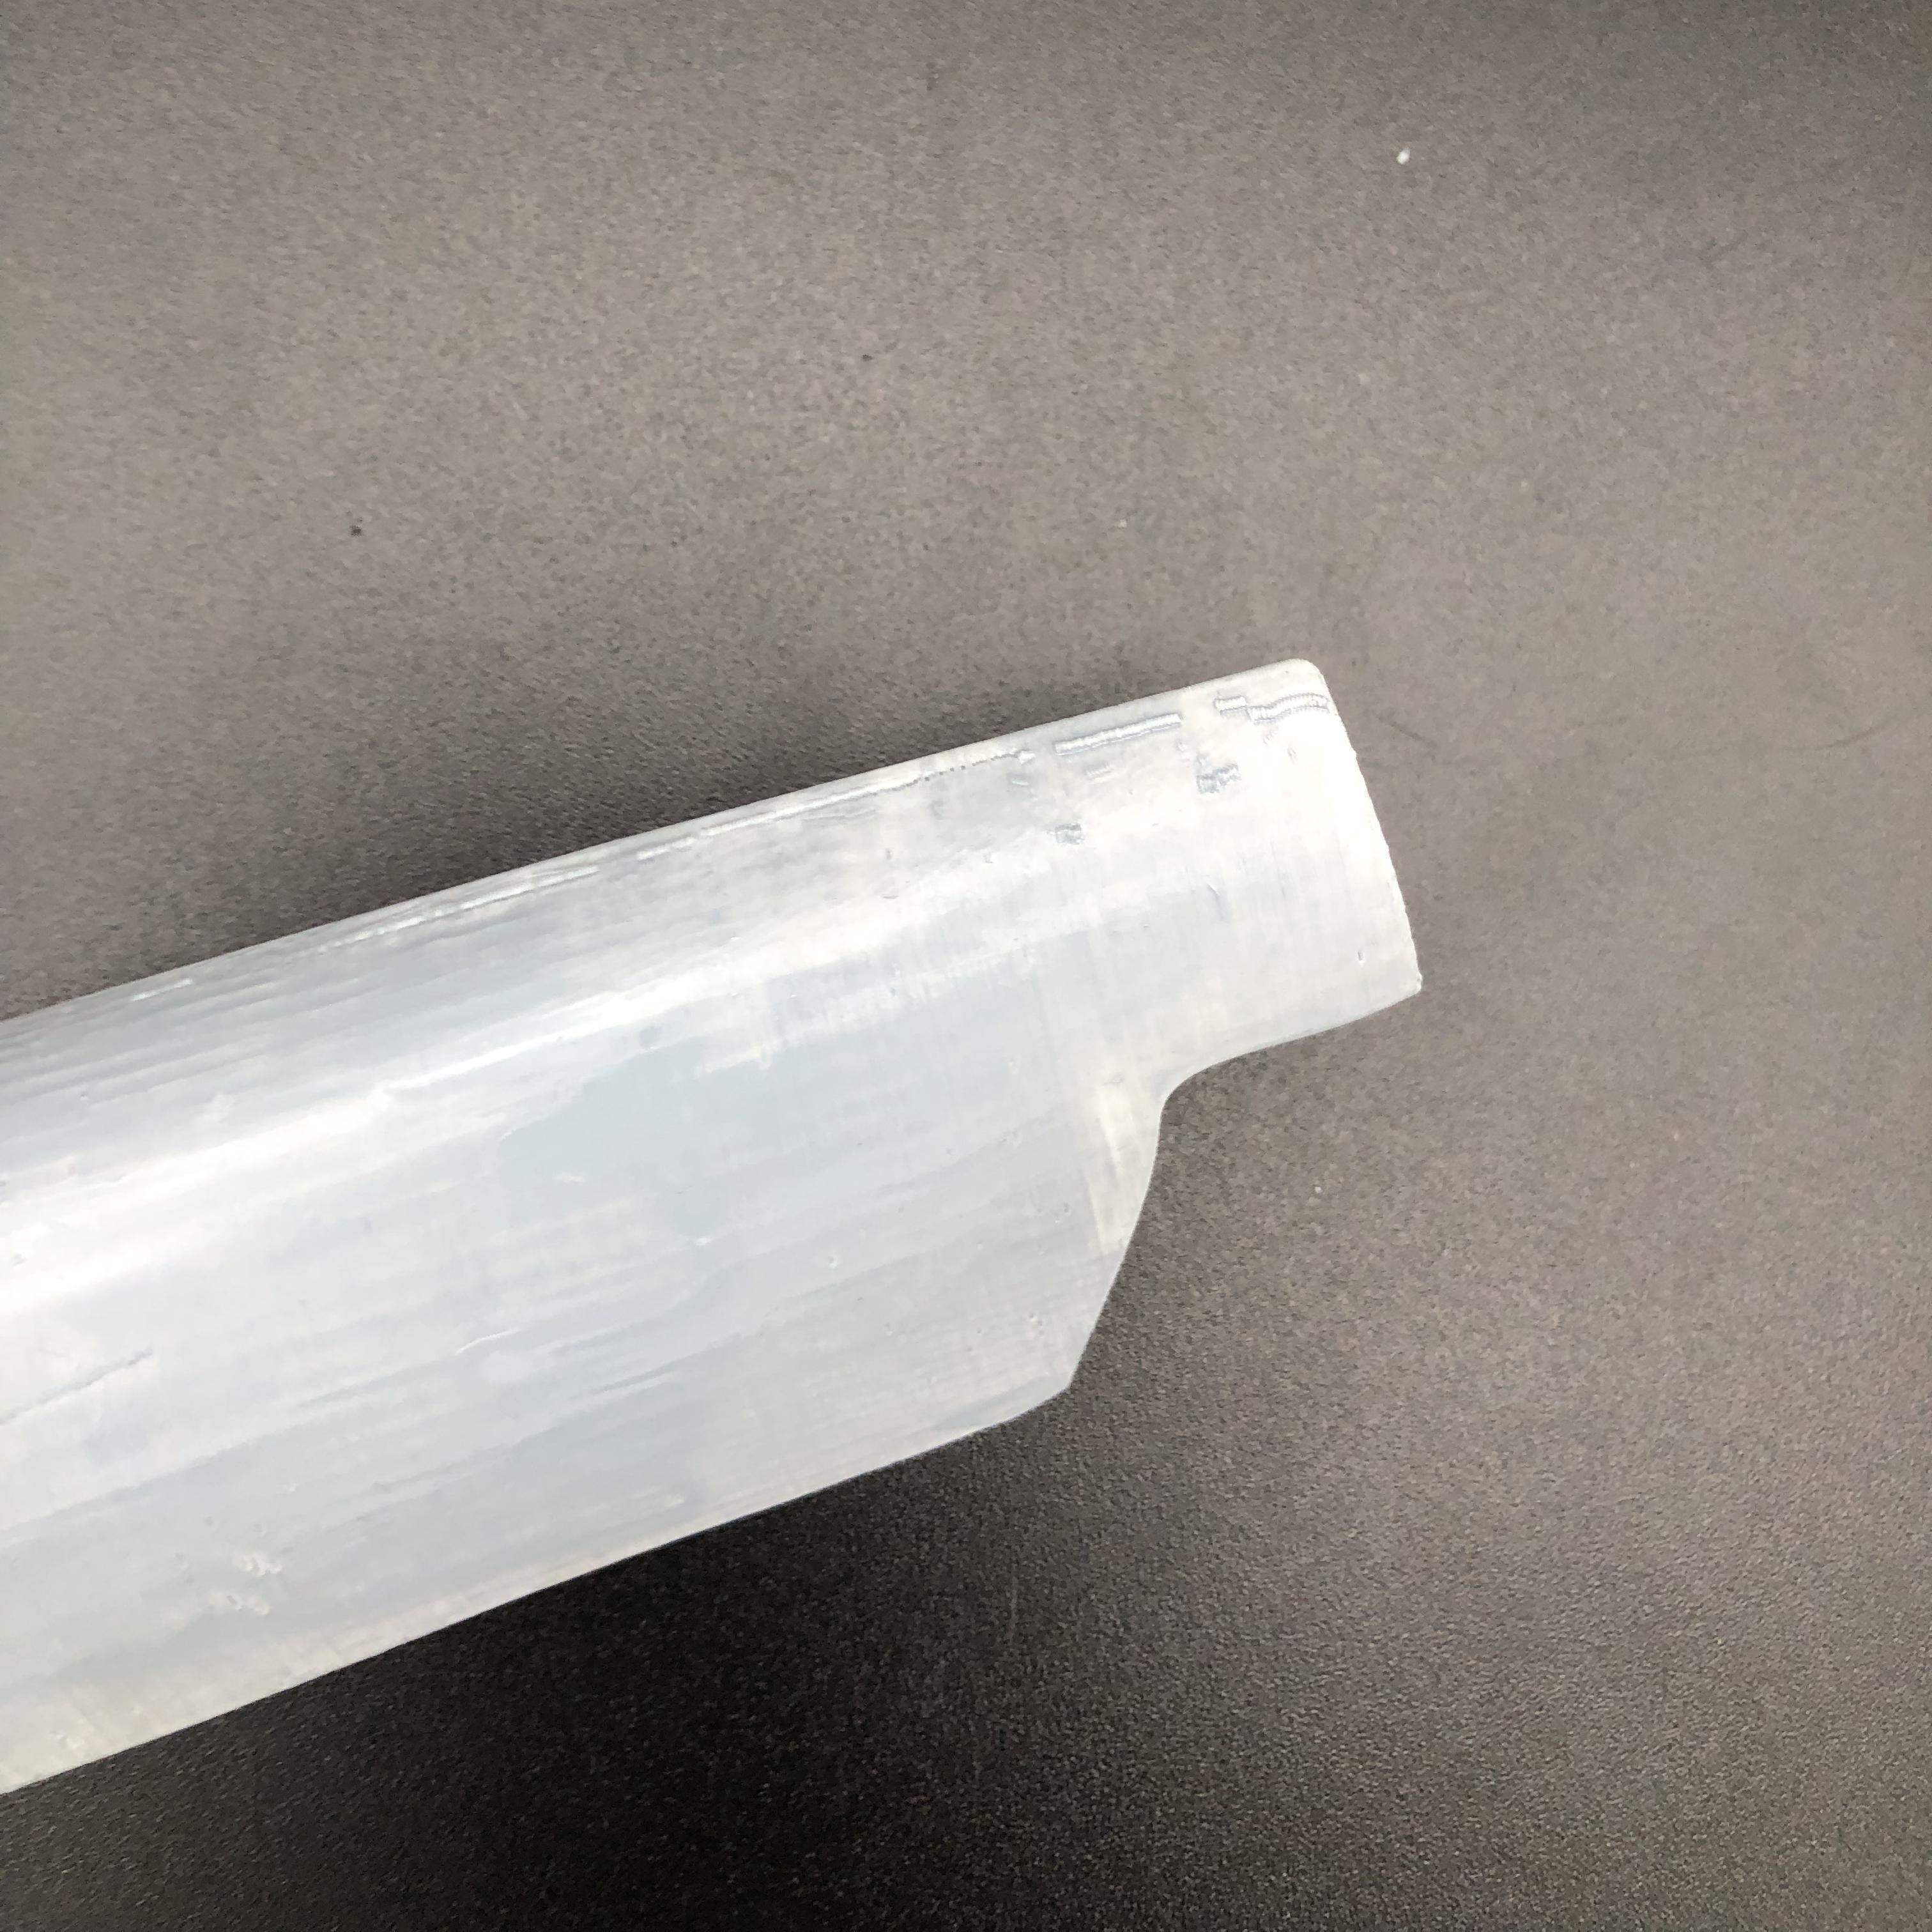fracture: (1090, 1012, 1410, 1361)
